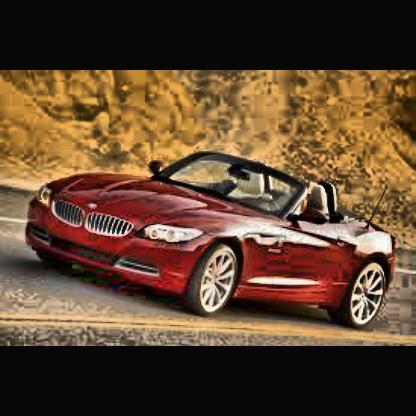BMW Z4 Convertible 2012: (24, 149, 397, 332)
